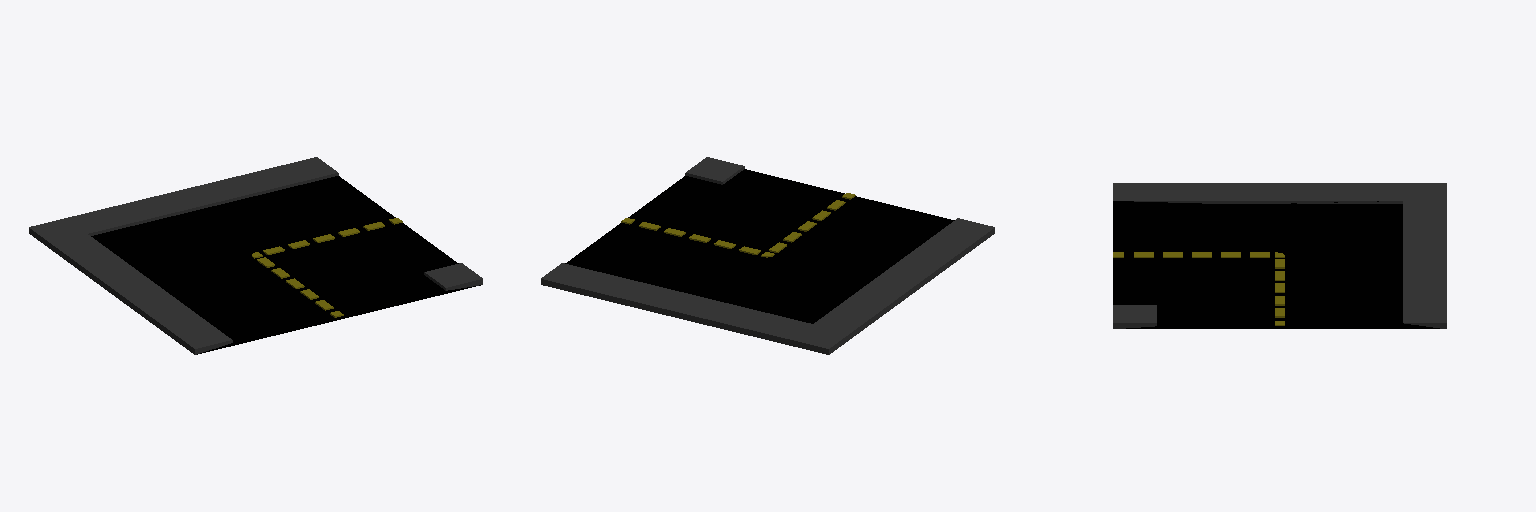
The model's file is road2.obj.
3 views of the same model, side by side, from view 1: azimuth 30°, elevation 25°; view 2: azimuth 150°, elevation 25°; view 3: azimuth 270°, elevation 25° (orthographic).
Parts seen in each view (by area): view 1: road2_road2.001; view 2: road2_road2.001; view 3: road2_road2.001.
Part boxes in pixels (x1,y1,x2,y2): road2_road2.001: (29, 157, 482, 354); road2_road2.001: (541, 157, 994, 354); road2_road2.001: (1113, 183, 1446, 328).
Bounding box in the file's own units: 1 × 0.02 × 1.